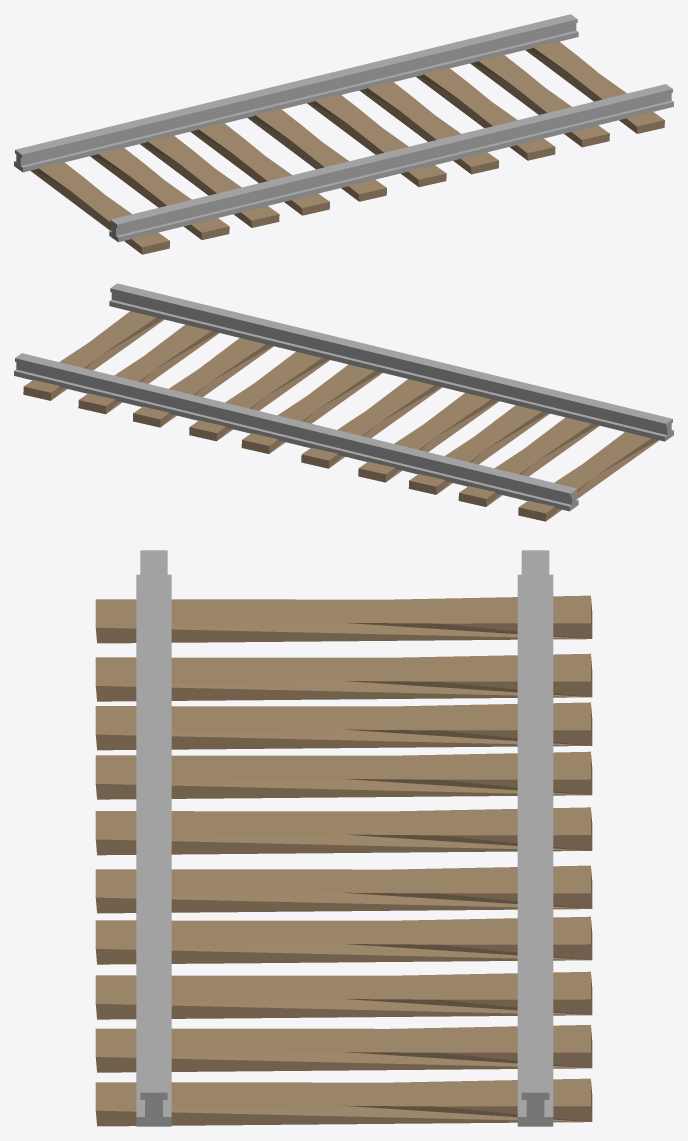
The model's file is Train.fbx.
3 views of the same model, one above another, from view 1: azimuth 30°, elevation 25°; view 2: azimuth 150°, elevation 25°; view 3: azimuth 270°, elevation 25° (orthographic). The views are drawn at different scales.
Parts seen in each view (by area): view 1: Prop_Rail_Road_Cart_Train_01, Prop_Rail_Road_Cart_Train_01.001; view 2: Prop_Rail_Road_Cart_Train_01, Prop_Rail_Road_Cart_Train_01.001; view 3: Prop_Rail_Road_Cart_Train_01, Prop_Rail_Road_Cart_Train_01.001.
Part boxes in pixels (x1,y1,x2,y2): Prop_Rail_Road_Cart_Train_01: [30, 41, 664, 254]; Prop_Rail_Road_Cart_Train_01.001: [14, 14, 673, 242]; Prop_Rail_Road_Cart_Train_01: [23, 311, 658, 521]; Prop_Rail_Road_Cart_Train_01.001: [14, 283, 673, 511]; Prop_Rail_Road_Cart_Train_01: [95, 595, 592, 1126]; Prop_Rail_Road_Cart_Train_01.001: [136, 550, 553, 1126].
Size of the model in its own units: 293 by 13.2 by 113.
